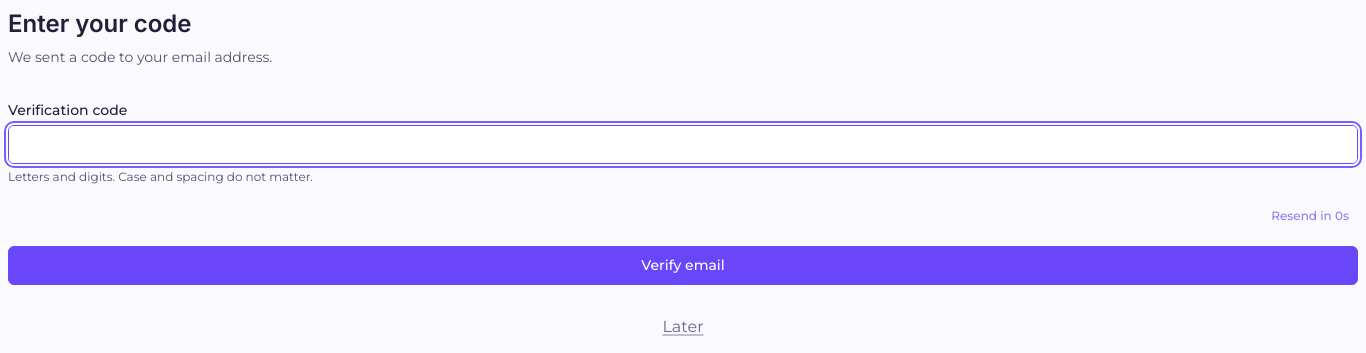
Test: the code field forgives what is typed › puts what is typed through the normaliser rather than showing it raw
In the field labelled "Verification code": (683, 145) left=9, top=126, right=1357, bottom=163, type "7qk3-mnp2 xvzo"
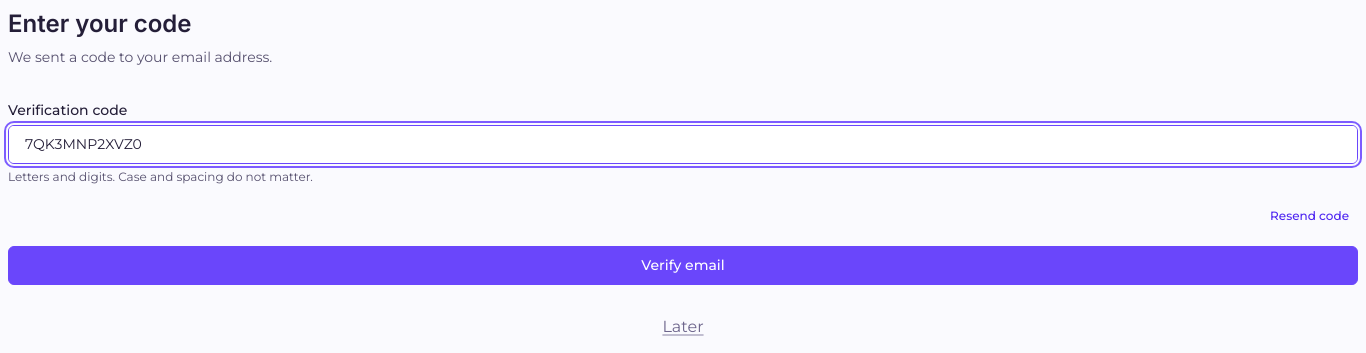
Check: the field labelled "Verification code" does not hold "7qk3-mnp2 xvzo", box left=9, top=126, right=1357, bottom=163
